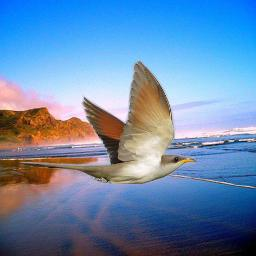Cuckoo: (19, 61, 196, 184)
